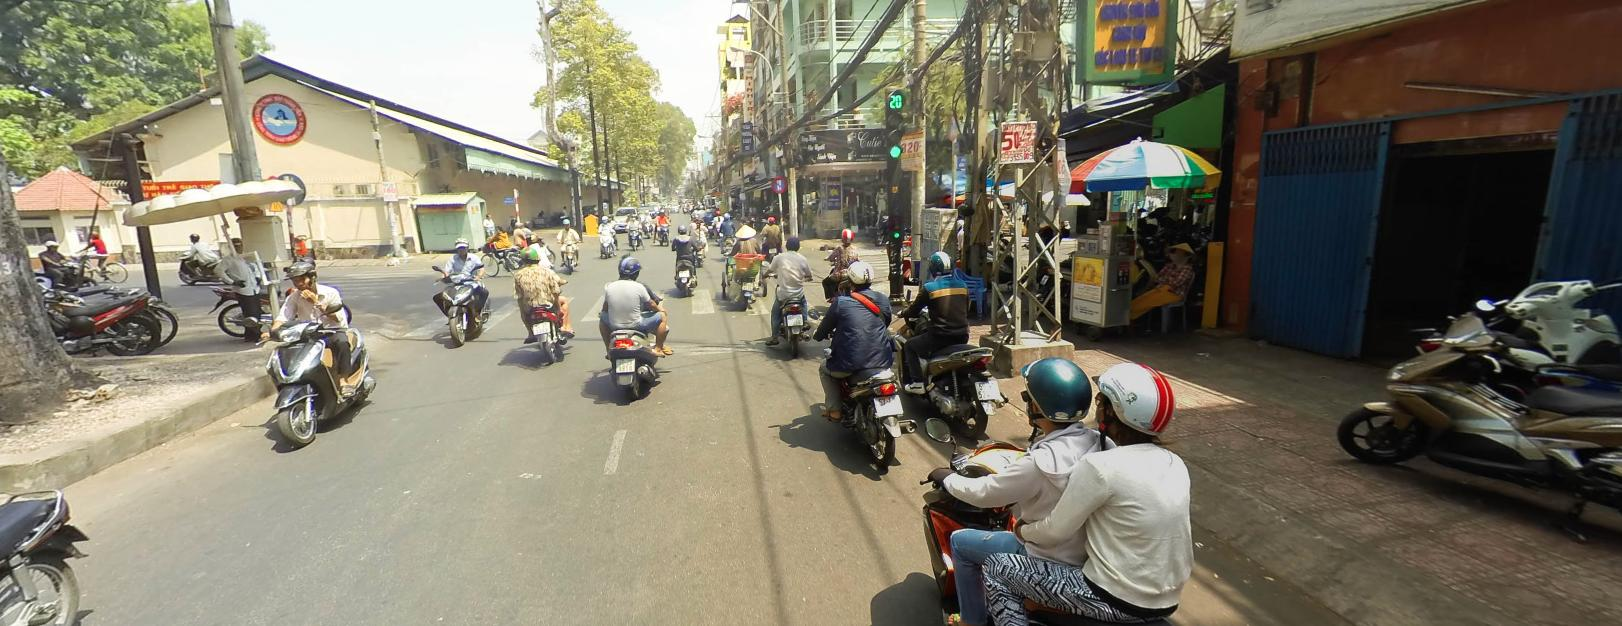Cam dung va do: (770, 174, 785, 190)
